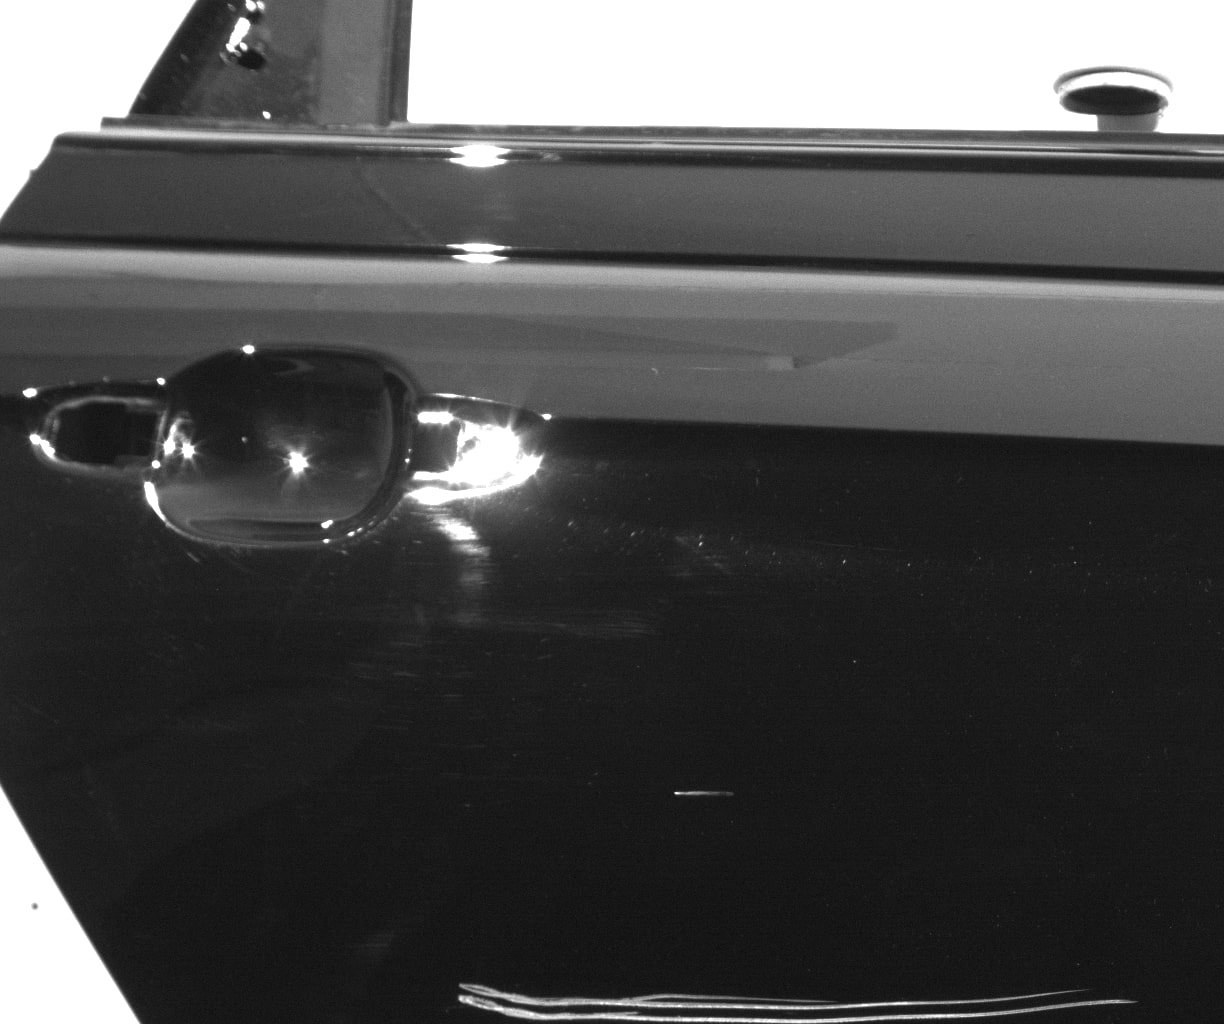scratch: (457, 982, 1140, 1024), (674, 789, 735, 797)
